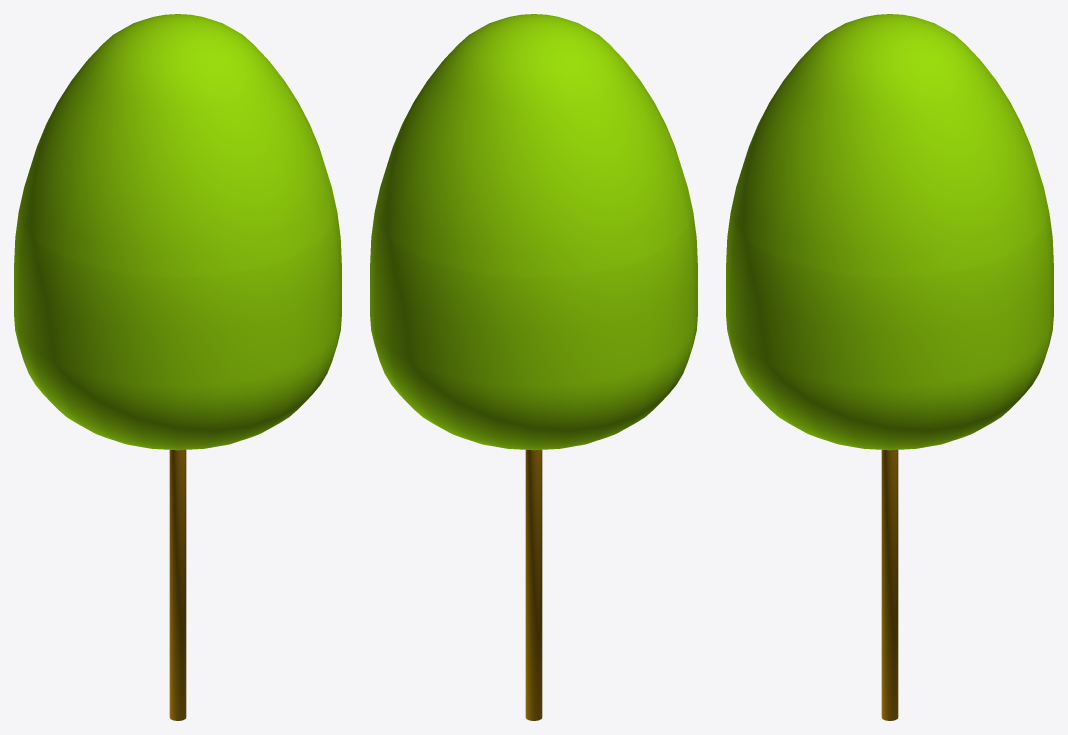
3 renders of one model, left to right at view 1: azimuth 30°, elevation 25°; view 2: azimuth 150°, elevation 25°; view 3: azimuth 270°, elevation 25°, orthographic.
Parts seen in each view (by area): view 1: LP7m_kk; view 2: LP7m_kk; view 3: LP7m_kk.
Part boxes in pixels (x1,y1,x2,y2): LP7m_kk: (14, 14, 341, 720); LP7m_kk: (370, 14, 697, 720); LP7m_kk: (726, 14, 1053, 720).
Bounding box in the file's own units: 3 × 7 × 3.
